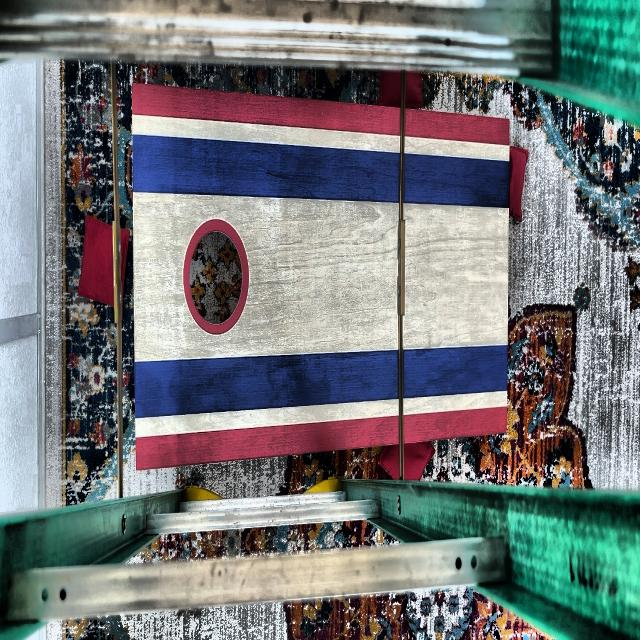board: (135, 120, 508, 433)
hole: (183, 218, 249, 335)
red-bean-bag: (77, 215, 129, 304), (378, 442, 433, 478), (380, 70, 424, 109), (510, 146, 528, 222)
